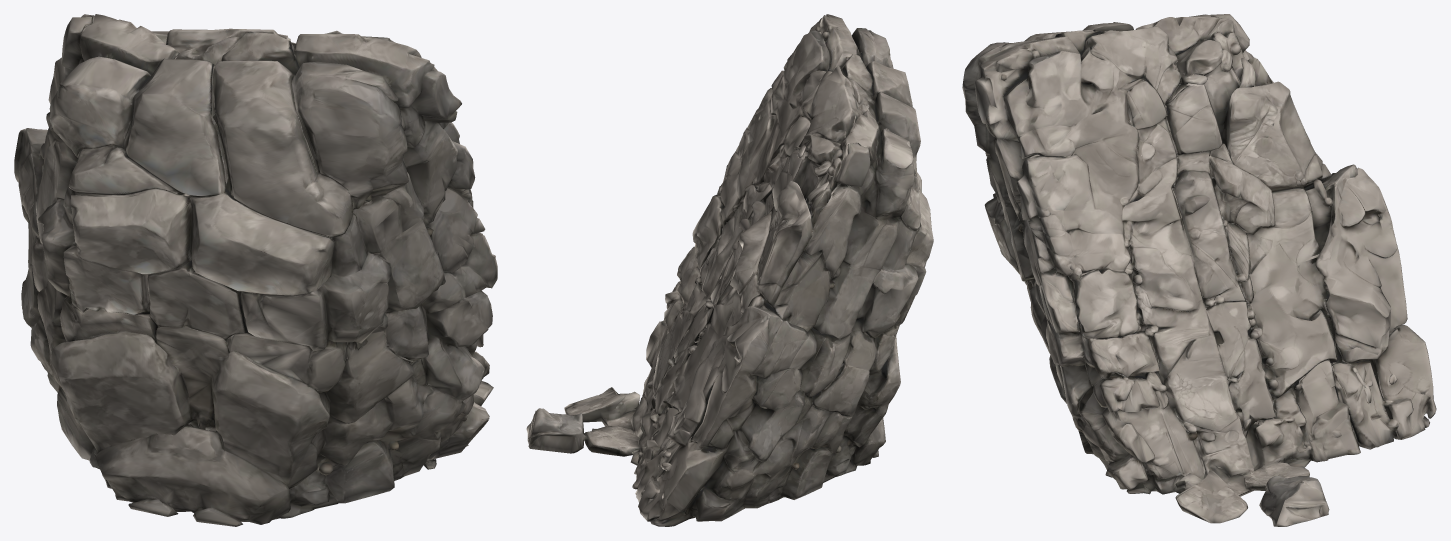
The model's file is crag_a.glb.
3 views of the same model, side by side, from view 1: azimuth 30°, elevation 25°; view 2: azimuth 150°, elevation 25°; view 3: azimuth 270°, elevation 25° (orthographic). The views are drawn at different scales.
Visible parts, largest first — view 1: crag_a; view 2: crag_a; view 3: crag_a.
Boxes of the visible parts, left/top/right/bottom form: crag_a: left=14, top=14, right=497, bottom=526; crag_a: left=526, top=14, right=933, bottom=526; crag_a: left=962, top=14, right=1436, bottom=526.
Size of the model in its own units: 49.86 by 50.05 by 55.78.
1 material, 1 textured.
